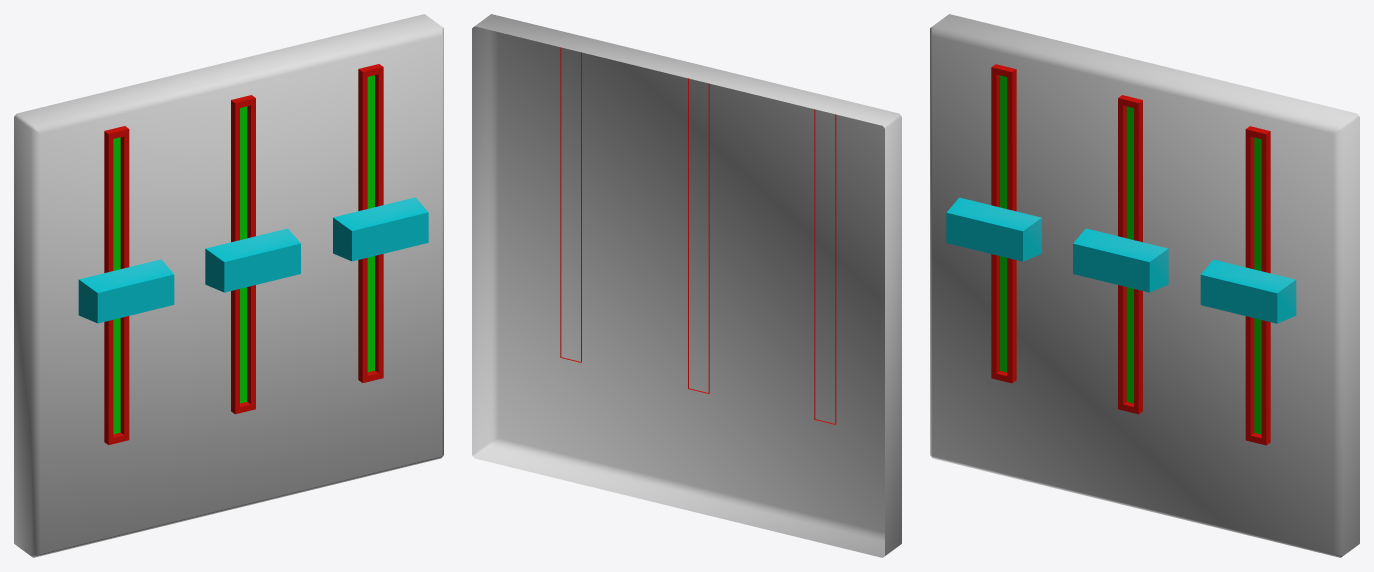
Rendered from mod_cursor_T.fbx.
3 views of the same model, side by side, from view 1: azimuth 30°, elevation 25°; view 2: azimuth 150°, elevation 25°; view 3: azimuth 330°, elevation 25° (orthographic).
Visible parts, largest first — view 1: module_base7, cursor1, cursor2, cursor3; view 2: module_base7; view 3: module_base7, cursor3, cursor2, cursor1.
Boxes of the visible parts, bbox=[...] form: module_base7: bbox=[14, 14, 443, 557]; cursor1: bbox=[78, 259, 174, 323]; cursor2: bbox=[205, 228, 300, 292]; cursor3: bbox=[333, 197, 428, 261]; module_base7: bbox=[472, 14, 901, 557]; module_base7: bbox=[930, 14, 1359, 557]; cursor3: bbox=[1200, 259, 1296, 323]; cursor2: bbox=[1073, 228, 1168, 292]; cursor1: bbox=[946, 197, 1041, 261].
Bounding box in the file's own units: 6 × 6 × 1.06.
